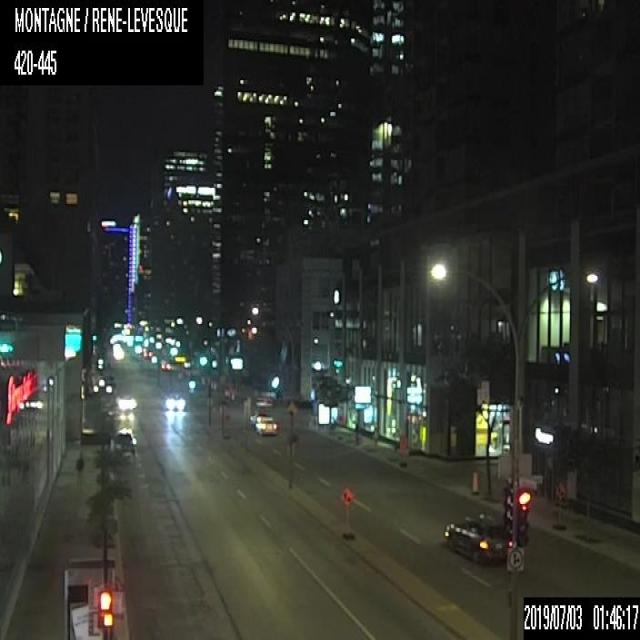construction: (341, 486, 354, 534), (554, 476, 566, 525), (398, 434, 407, 466), (471, 468, 480, 492)
pedestrian: (75, 448, 83, 488)
vehicle: (442, 516, 508, 563), (113, 428, 136, 457), (254, 416, 276, 436), (164, 390, 184, 409), (114, 393, 136, 407)
